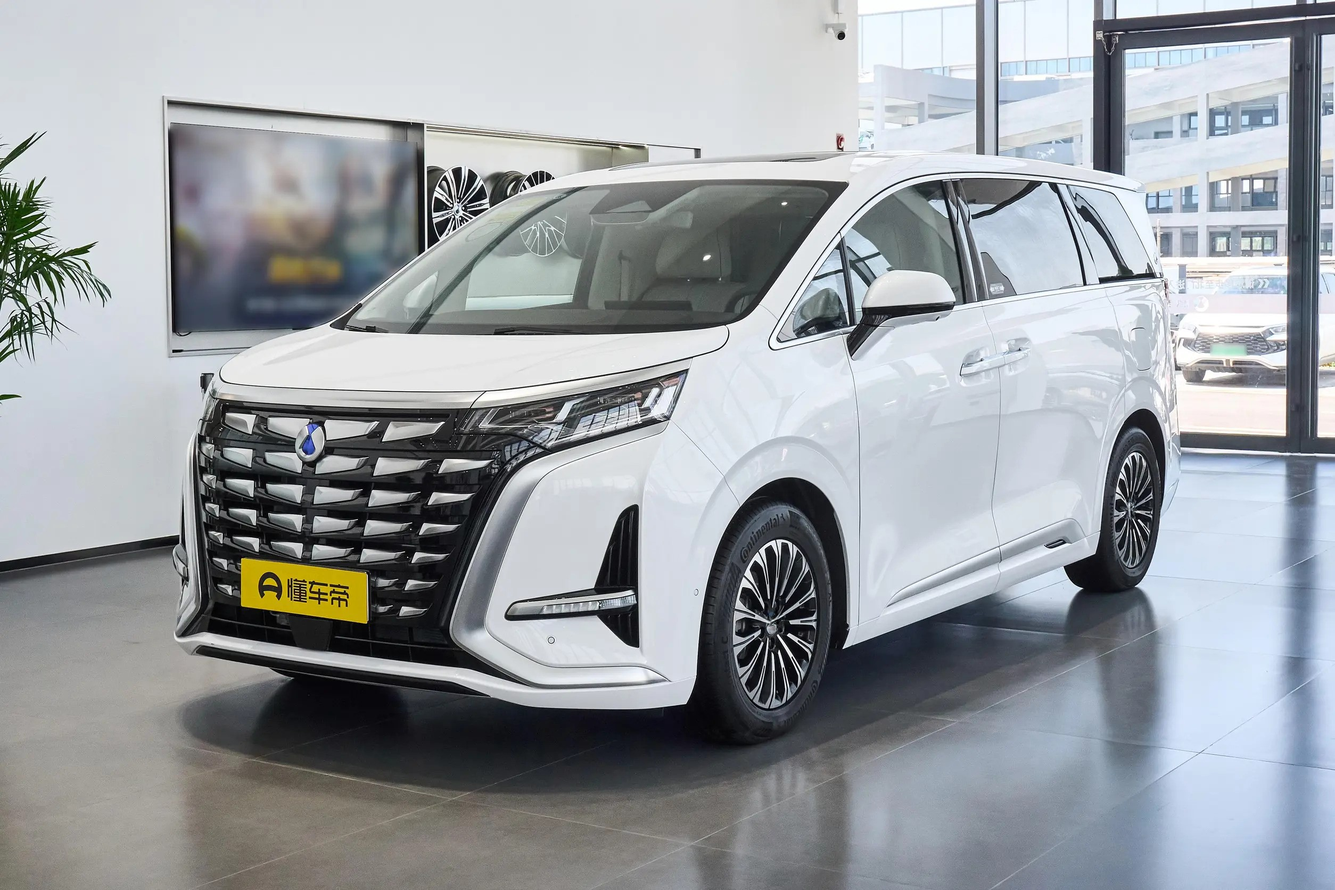DENZA: (295, 424, 324, 461)
